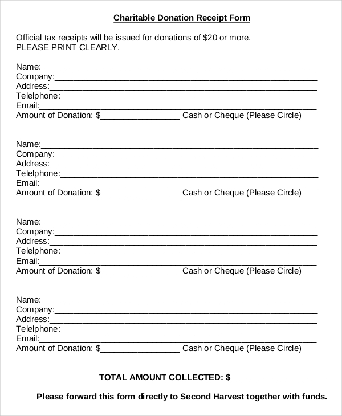textline: (39, 214, 320, 229), (40, 60, 320, 74), (39, 138, 320, 150), (39, 295, 320, 306), (48, 81, 321, 92), (54, 227, 320, 238), (38, 257, 320, 267), (54, 73, 320, 83), (58, 247, 320, 257), (59, 91, 319, 101), (38, 336, 321, 345), (38, 103, 320, 112), (48, 238, 321, 247), (48, 316, 320, 325), (48, 160, 319, 169), (55, 307, 320, 316), (59, 326, 320, 335), (38, 181, 319, 189), (54, 152, 321, 160), (58, 172, 319, 180), (231, 371, 326, 383), (100, 112, 181, 122), (101, 267, 181, 277), (103, 345, 180, 355), (100, 189, 181, 198)
